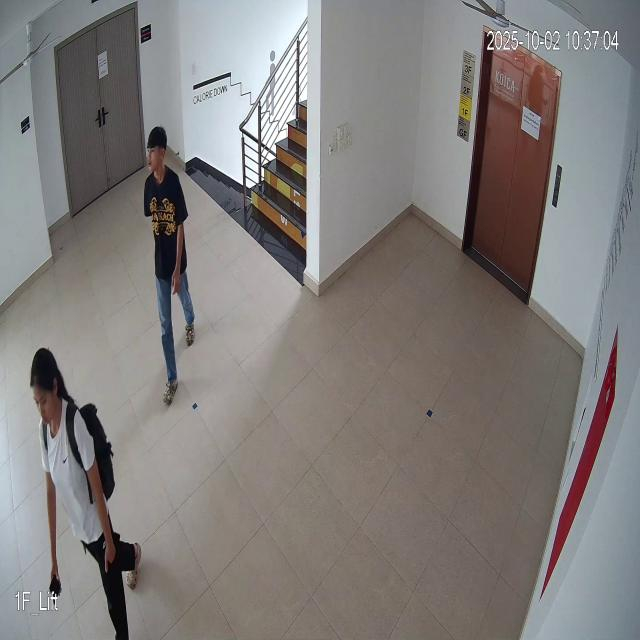face: (142, 124, 168, 173)
